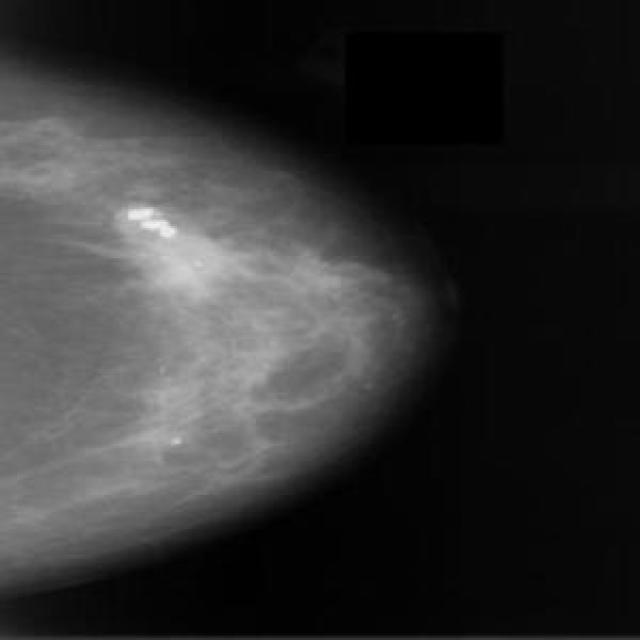tumor: (118, 190, 236, 305)
